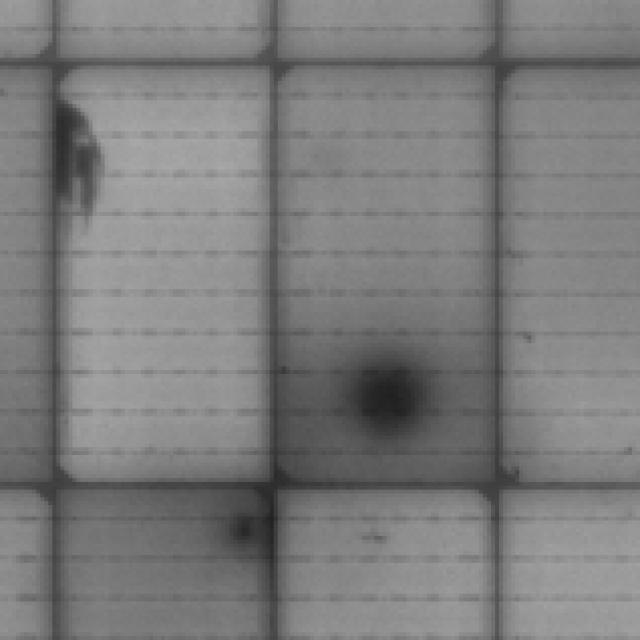BLACK SPOT: (329, 342, 439, 445), (41, 74, 98, 208), (218, 498, 261, 552)
